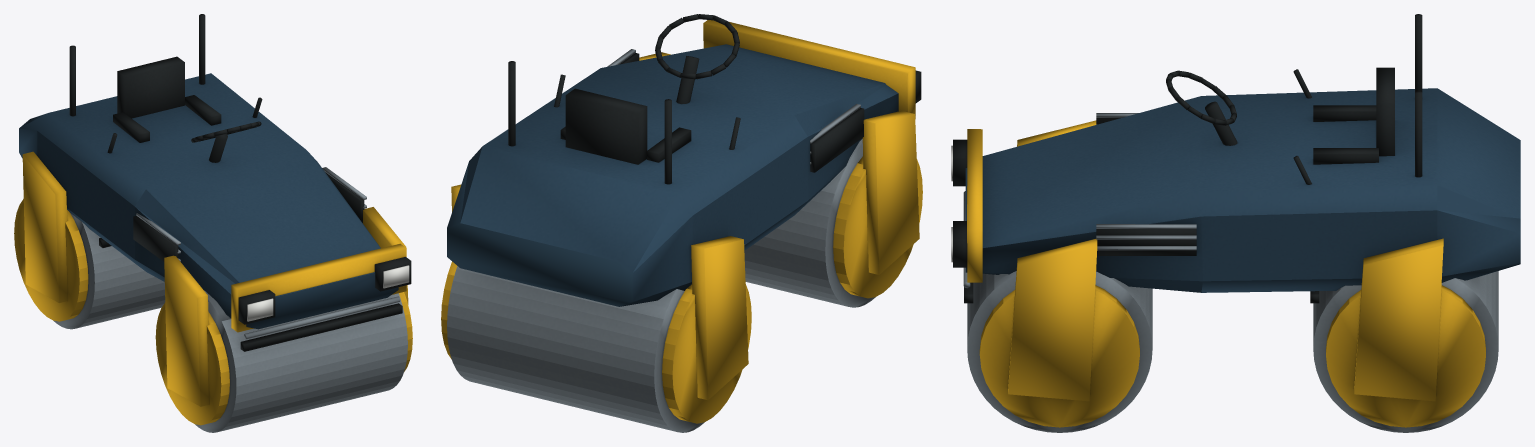
The model's file is road_roller.lod1.obj.
3 renders of one model, left to right at view 1: azimuth 30°, elevation 25°; view 2: azimuth 150°, elevation 25°; view 3: azimuth 270°, elevation 25°, orthographic. The views are drawn at different scales.
Visible parts, largest first — view 1: road_roller; view 2: road_roller; view 3: road_roller.
Part boxes in pixels (bbox=[...]): road_roller: bbox=[14, 14, 412, 432]; road_roller: bbox=[441, 14, 922, 432]; road_roller: bbox=[951, 14, 1520, 432].
Size of the model in its own units: 1.88 by 2.3 by 3.62.
1 material, 1 textured.
